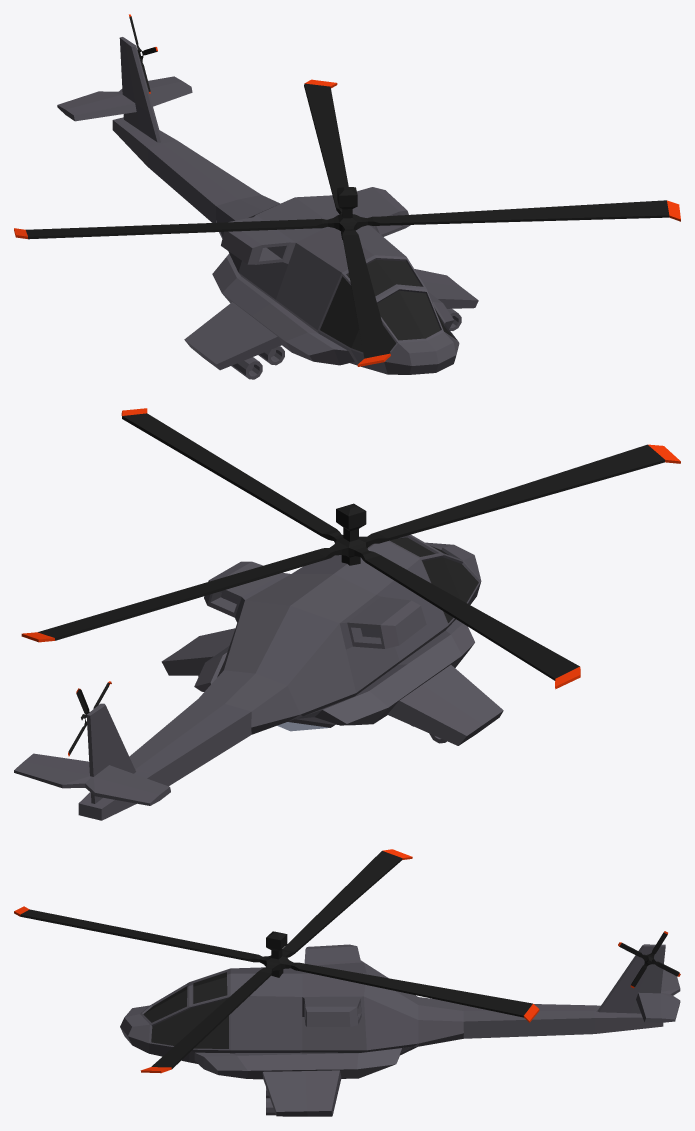
The model's file is Helicopter 1.fbx.
3 renders of one model, top to bottom at view 1: azimuth 30°, elevation 25°; view 2: azimuth 150°, elevation 25°; view 3: azimuth 270°, elevation 25°, orthographic. The views are drawn at different scales.
Parts seen in each view (by area): view 1: Helicopter, MainRotor; view 2: Helicopter, MainRotor; view 3: Helicopter, MainRotor, TailRotor.
Boxes of the visible parts, <box> form: Helicopter: <box>57,37,478,379</box>; MainRotor: <box>14,79,680,366</box>; Helicopter: <box>14,534,503,820</box>; MainRotor: <box>21,408,680,689</box>; Helicopter: <box>120,944,680,1116</box>; MainRotor: <box>14,849,539,1073</box>; TailRotor: <box>618,931,680,988</box>.
Size of the model in its own units: 1490 by 455 by 1891.
